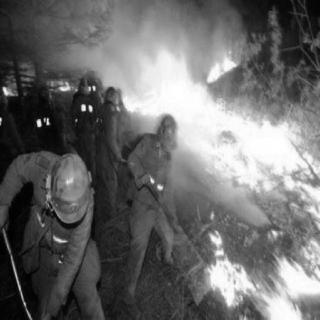Fire: (194, 120, 318, 316), (122, 41, 256, 119)
other: (30, 149, 94, 260), (144, 168, 166, 202), (29, 107, 57, 131), (79, 101, 95, 113)
